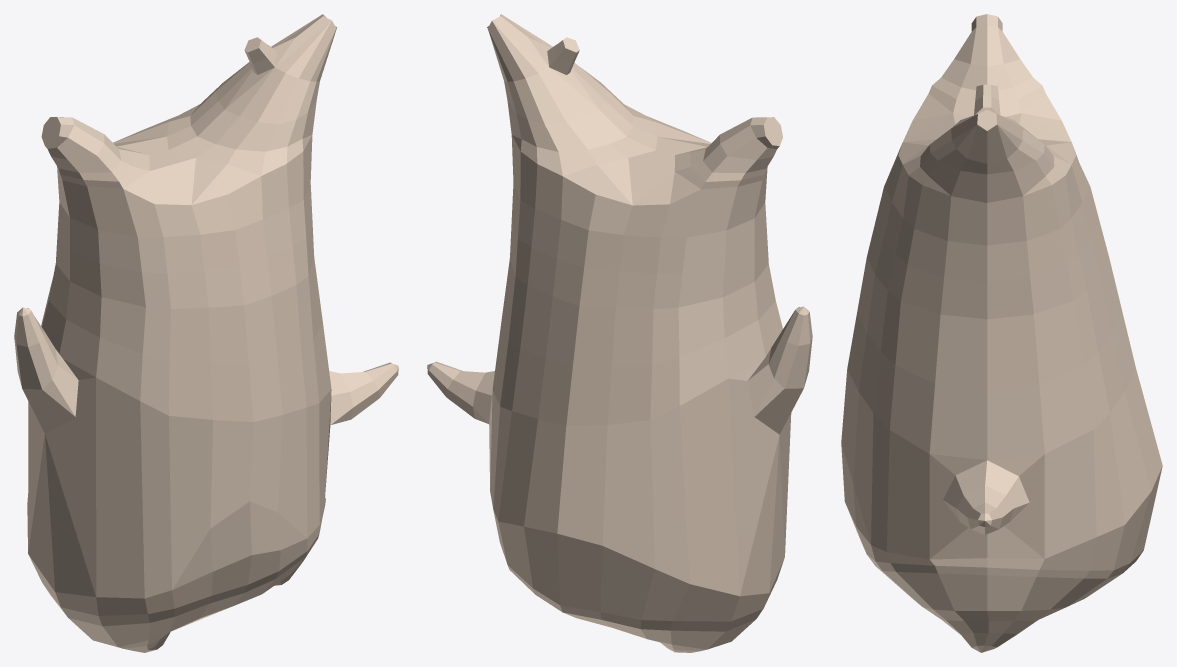
File: frame_0103.obj
3 renders of one model, left to right at view 1: azimuth 30°, elevation 25°; view 2: azimuth 150°, elevation 25°; view 3: azimuth 270°, elevation 25°, orthographic.
Visible parts, largest first — view 1: korok; view 2: korok; view 3: korok.
Part boxes in pixels (bbox=[...]): korok: bbox=[14, 14, 398, 652]; korok: bbox=[427, 14, 812, 652]; korok: bbox=[841, 14, 1162, 652].
Size of the model in its own units: 1.49 by 2.2 by 1.07.
